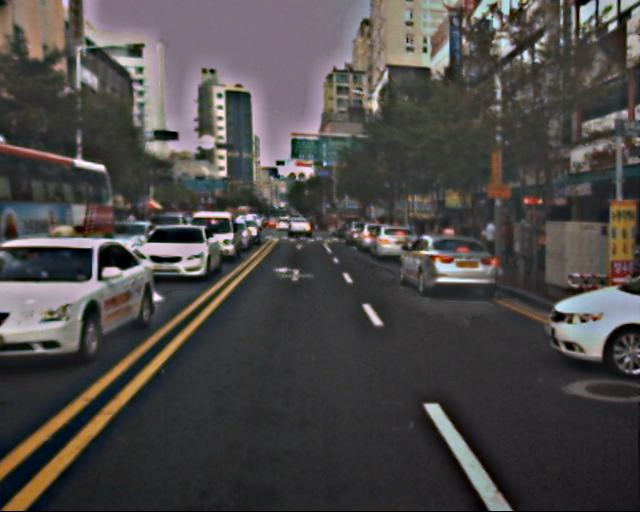person: (480, 217, 503, 273)
